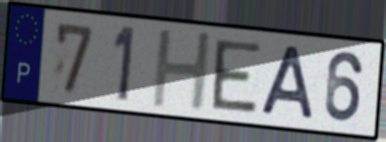1: (110, 24, 137, 106)
6: (323, 49, 365, 125)
7: (54, 21, 94, 96)
A: (258, 43, 317, 122)
E: (211, 38, 264, 117)
H: (149, 29, 214, 113)
